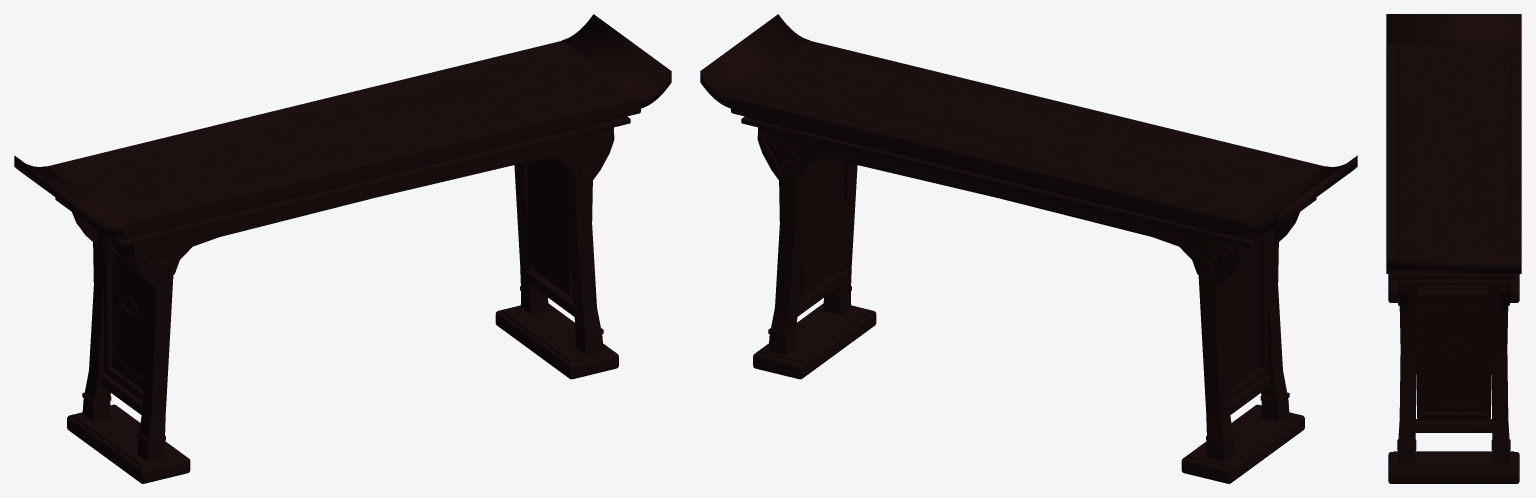
Rendered from gpt-qiaotouan-v1.glb.
3 renders of one model, left to right at view 1: azimuth 30°, elevation 25°; view 2: azimuth 150°, elevation 25°; view 3: azimuth 270°, elevation 25°, orthographic. The views are drawn at different scales.
Parts seen in each view (by area): view 1: 清式紫檀翘头长案; view 2: 清式紫檀翘头长案; view 3: 清式紫檀翘头长案.
Boxes of the visible parts, x1,y1,x2,y2 form: 清式紫檀翘头长案: [14, 14, 671, 483]; 清式紫檀翘头长案: [700, 14, 1357, 483]; 清式紫檀翘头长案: [1386, 14, 1521, 483].
Bounding box in the file's own units: 1.8 × 0.85 × 0.42.
1 material, 1 textured.
